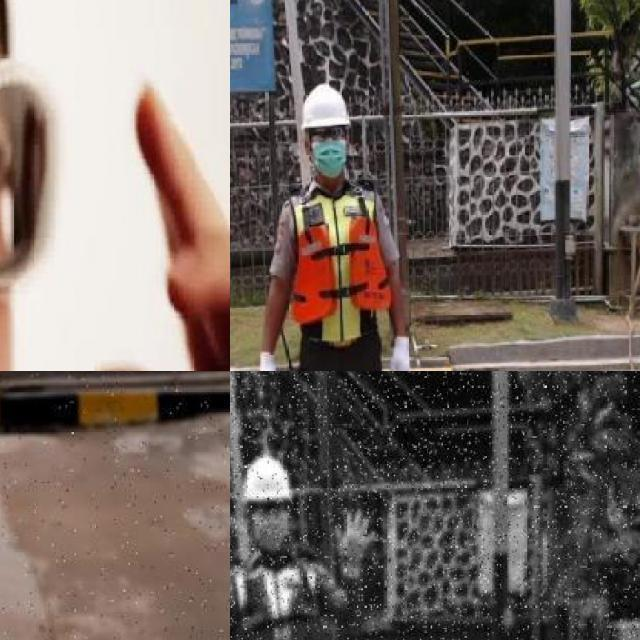apron: (334, 510, 378, 579), (387, 334, 413, 371), (256, 347, 281, 371)
